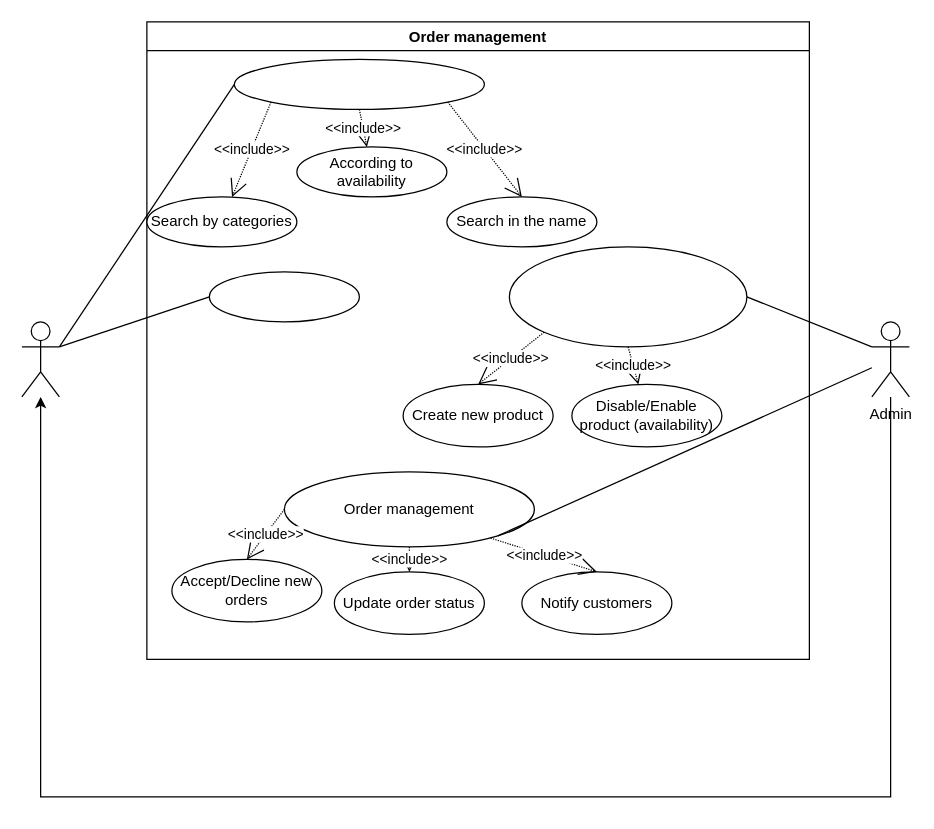
Some shapes in this 934 by 829 pixel diagram are drawn without their labels. Each missing label, with the centre of its shape:
Browse catalog: [358,83]
Create order: [283,296]
Product management: [627,296]
User: [40,359]
